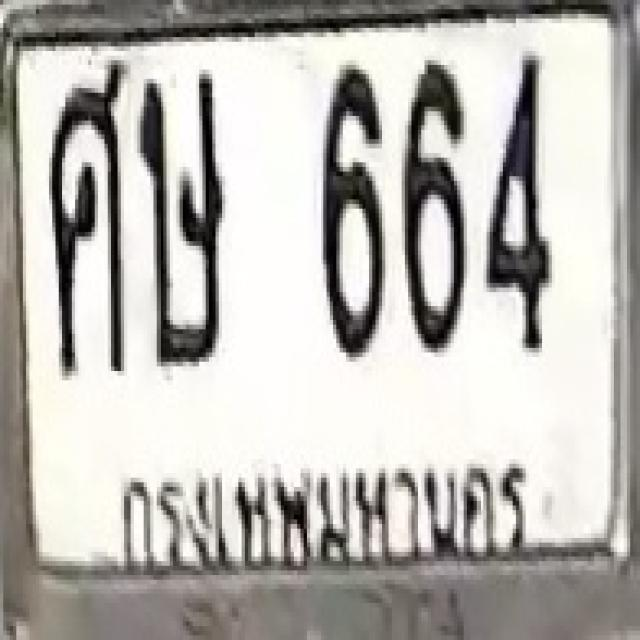4: (483, 49, 552, 350)
6: (318, 60, 384, 357), (400, 55, 465, 352)
A38: (47, 65, 126, 371)
A39: (137, 67, 225, 369)
BKK: (109, 443, 536, 578)
